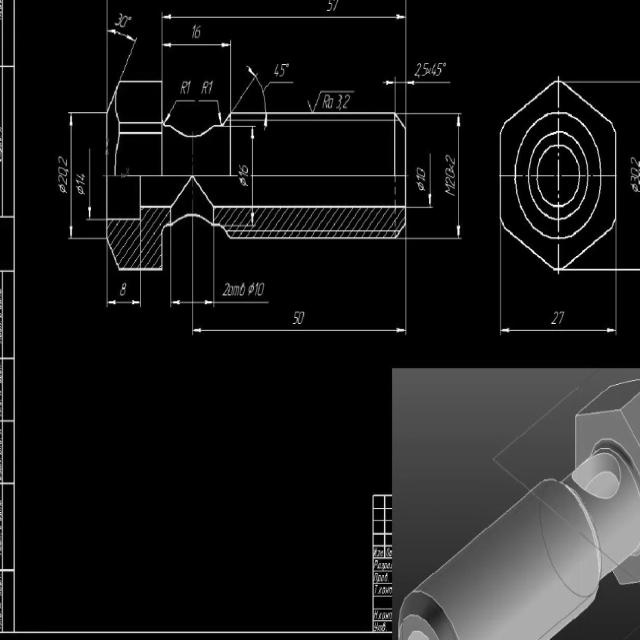marking_line: (193, 326, 405, 336), (164, 13, 405, 21), (500, 327, 617, 336), (68, 114, 75, 238), (455, 115, 461, 238), (381, 77, 453, 87), (162, 40, 228, 49), (87, 147, 93, 220), (426, 155, 434, 205), (106, 300, 140, 308), (172, 300, 213, 306)
numeric: (442, 156, 456, 188), (57, 151, 69, 185), (548, 309, 568, 327), (290, 310, 308, 329), (428, 59, 442, 79), (271, 61, 286, 79), (336, 93, 351, 111), (115, 11, 127, 31), (75, 169, 88, 187), (417, 61, 429, 79), (191, 23, 203, 40), (415, 166, 426, 182), (255, 283, 265, 300), (238, 164, 249, 177), (120, 283, 128, 298)
special_symbol: (106, 29, 137, 84), (161, 94, 197, 126), (261, 81, 294, 110), (199, 99, 224, 125), (306, 85, 323, 113), (75, 183, 86, 196), (629, 182, 640, 193), (58, 184, 67, 197), (248, 281, 255, 297), (415, 183, 425, 191)
